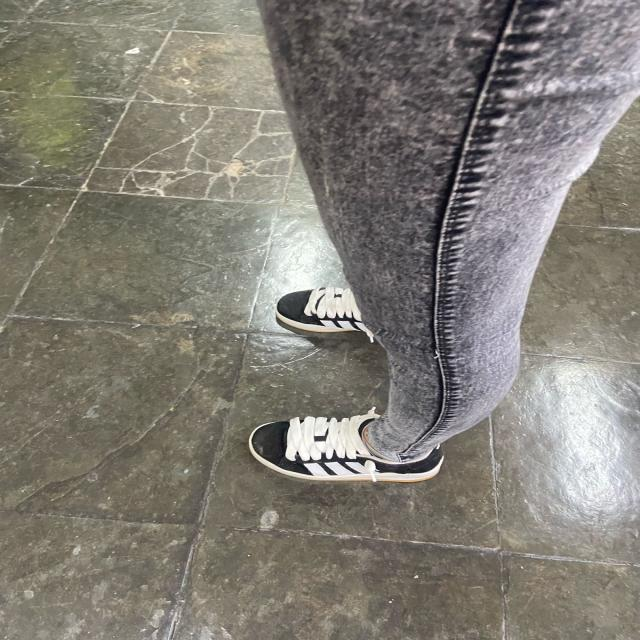SEM BOTA: (243, 414, 452, 486), (272, 288, 381, 330)
